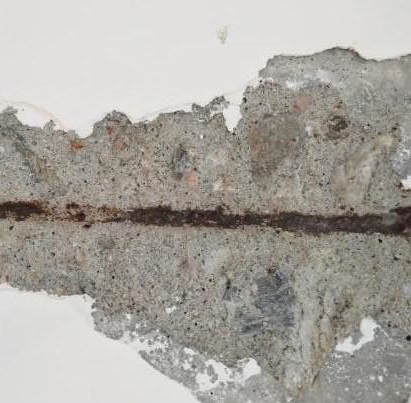Exposed reinforcement: (1, 200, 411, 237)
Spalling: (1, 45, 411, 403)
